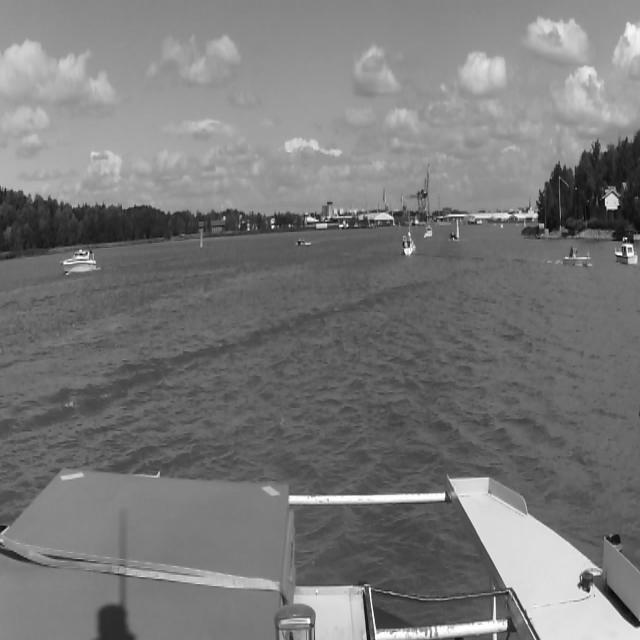buoy: (456, 220, 459, 238), (200, 228, 202, 249)
ship: (399, 183, 416, 258), (60, 249, 96, 275), (614, 243, 638, 264), (562, 246, 590, 264), (292, 236, 304, 246), (424, 225, 432, 239), (448, 232, 456, 241)
